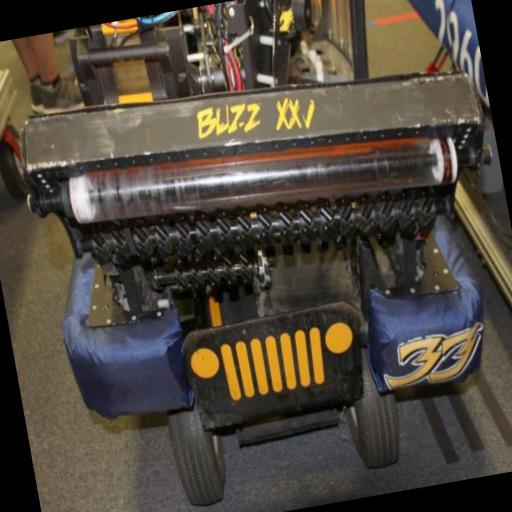robot: (9, 0, 492, 474)
